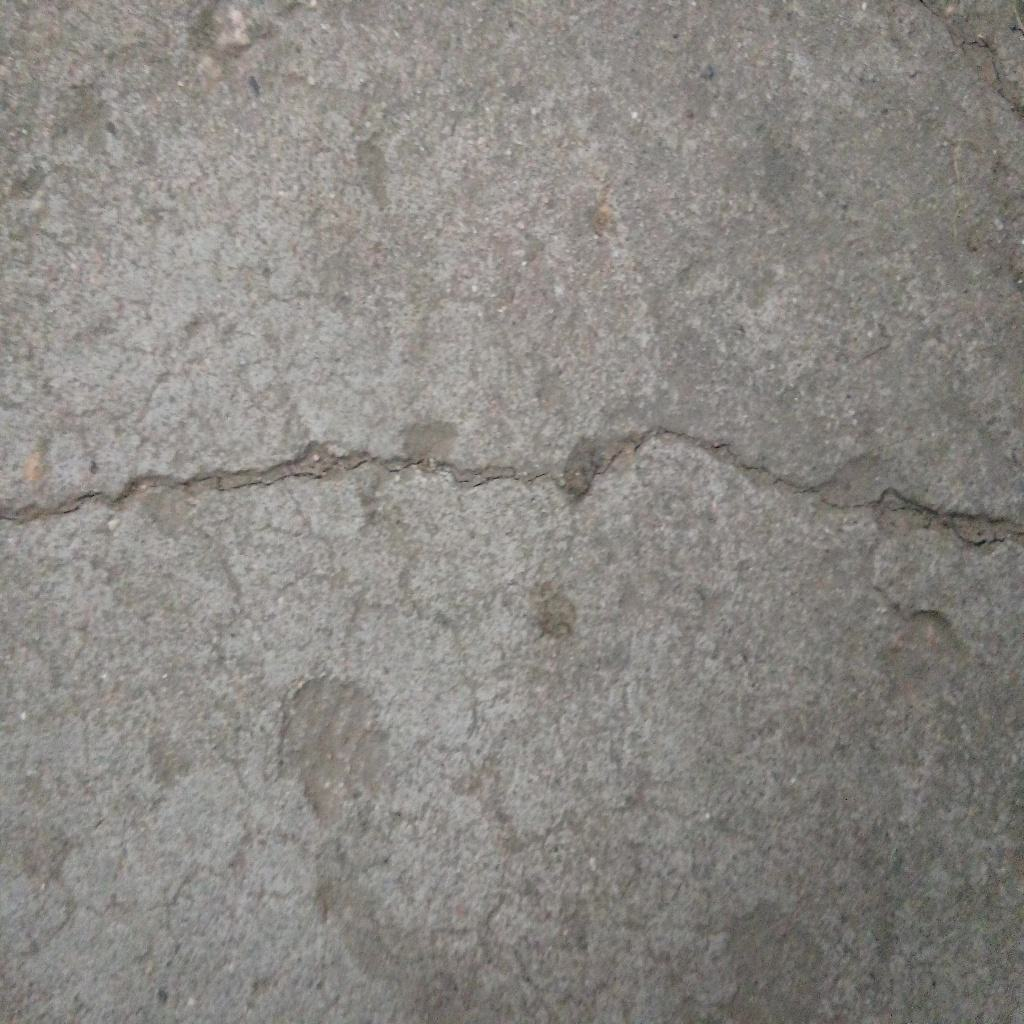Crack: (1, 424, 1024, 555)
Spalling: (277, 672, 391, 828), (725, 896, 824, 1024), (872, 582, 961, 710)
